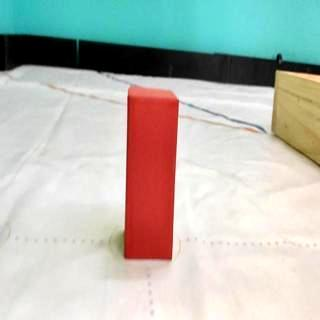redbox: (124, 85, 180, 261)
